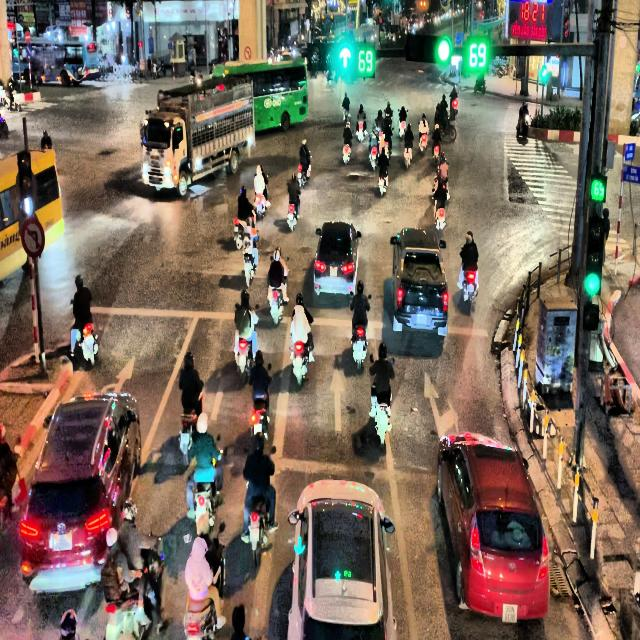lisence_plate: (49, 530, 73, 552), (501, 601, 518, 624), (416, 315, 428, 326), (328, 267, 338, 279)
